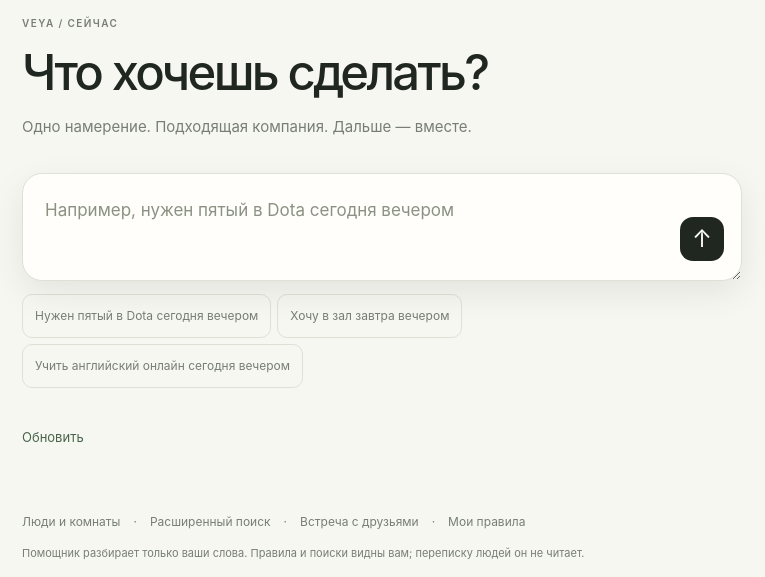
Test: minimal intent product › starts with one composer, fills a suggestion without sending it and keeps unsaved text through refresh
Check: the button "Обновить" is shown, box [22,416,84,460]
Check: the number of text boxes is 1, box [23,174,741,280]
Click the button "Нужен пятый в Dota сегодня вечером" at (147, 316), box [22,294,271,338]
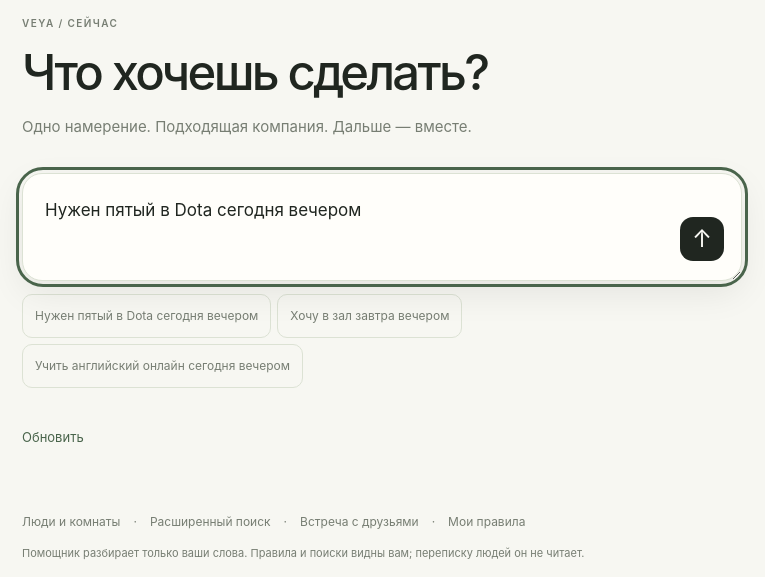
Check: the text box named "Что хочешь сделать?" holds "Нужен пятый в Dota сегодня вечером", box [23,174,741,280]
Check: the text box holds "Нужен пятый в Dota сегодня вечером", box [23,174,741,280]
